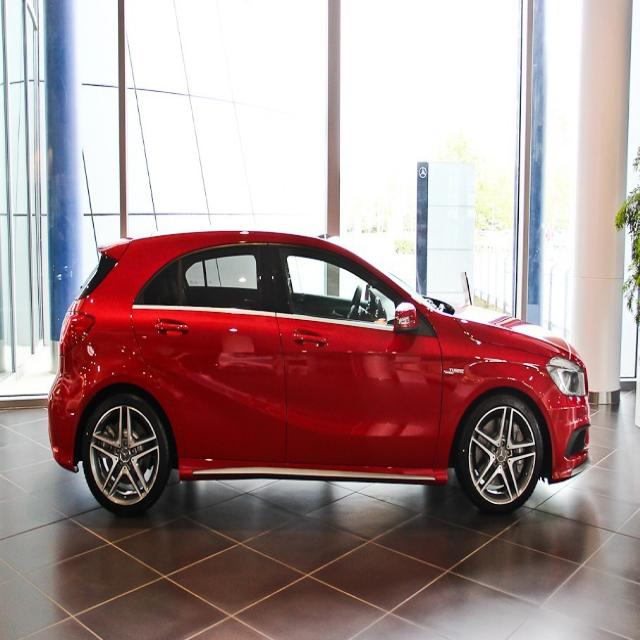back_right_side_light: (57, 307, 97, 360)
door: (135, 237, 286, 478)
front_bumper: (536, 389, 593, 484)
front_right_side_door: (262, 235, 446, 478)
front_right_side_light: (544, 349, 587, 398)
front_right_side_mirror: (393, 300, 418, 334)
rear_bumper: (46, 362, 98, 473)
wheel: (81, 388, 170, 514), (460, 395, 542, 513)
